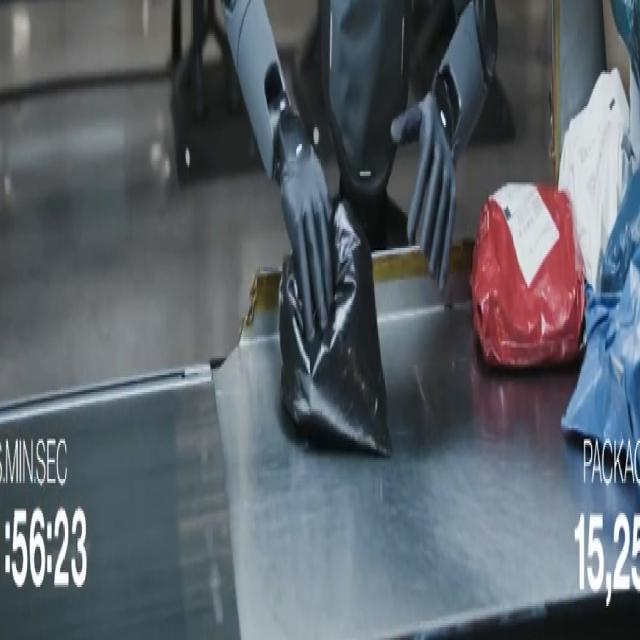package: (279, 204, 391, 455), (471, 185, 584, 368), (558, 70, 632, 290), (562, 251, 639, 442), (600, 172, 639, 292), (603, 0, 630, 97), (611, 0, 639, 74)
